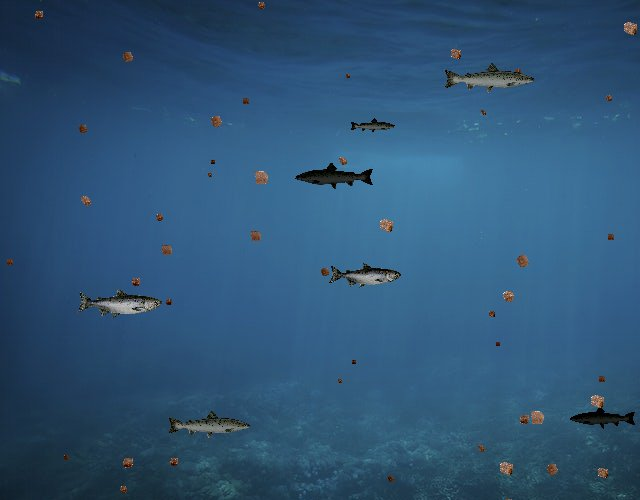Fish: (442, 62, 536, 96), (166, 409, 252, 440), (76, 288, 162, 319), (295, 162, 376, 191), (328, 263, 401, 289), (570, 405, 638, 430), (350, 118, 397, 135)
Pellet: (510, 248, 536, 274), (496, 284, 521, 309), (75, 190, 96, 212), (484, 307, 498, 321), (204, 169, 214, 180)
